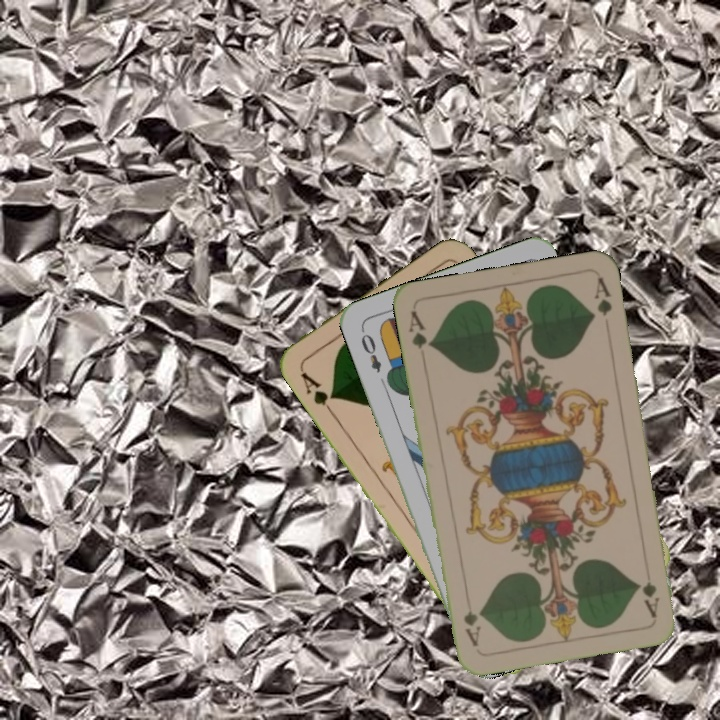EO: (357, 325, 384, 375)
GA: (297, 365, 339, 417), (404, 306, 435, 351), (638, 577, 662, 620)
